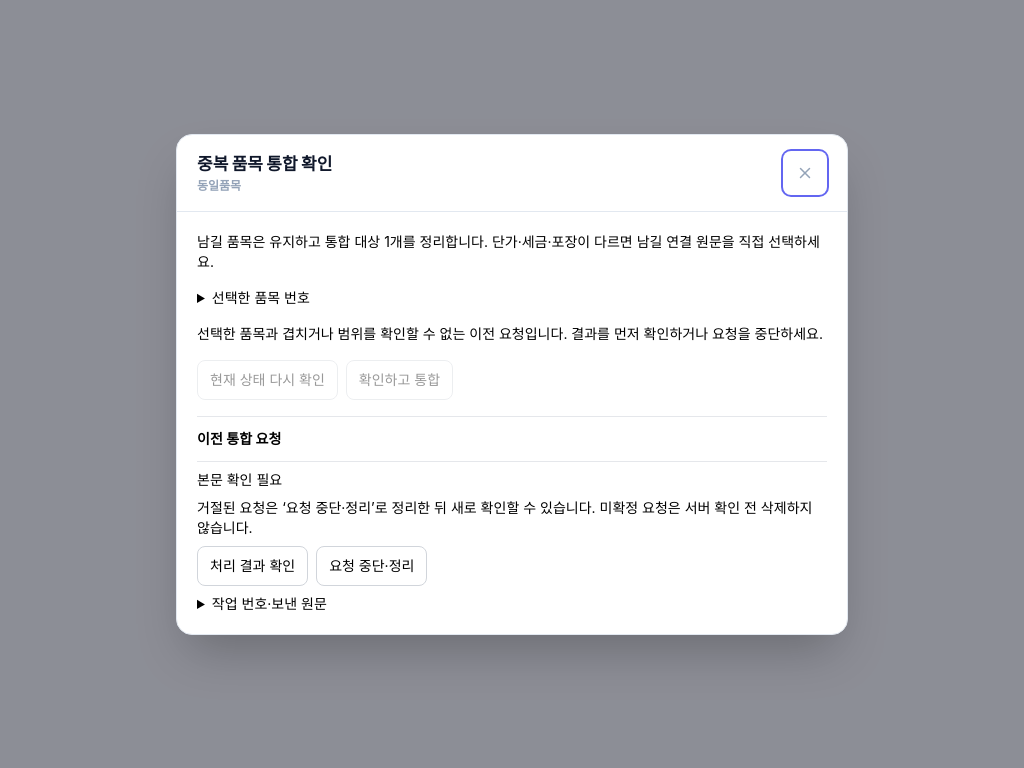
Test case: 손상된미확정원문은참조확인중단만제공하고서버ACK뒤보관목록갱신
Click the button "처리 결과 확인". click: point(253, 566)
box: x1=197 y1=546 x2=308 y2=586
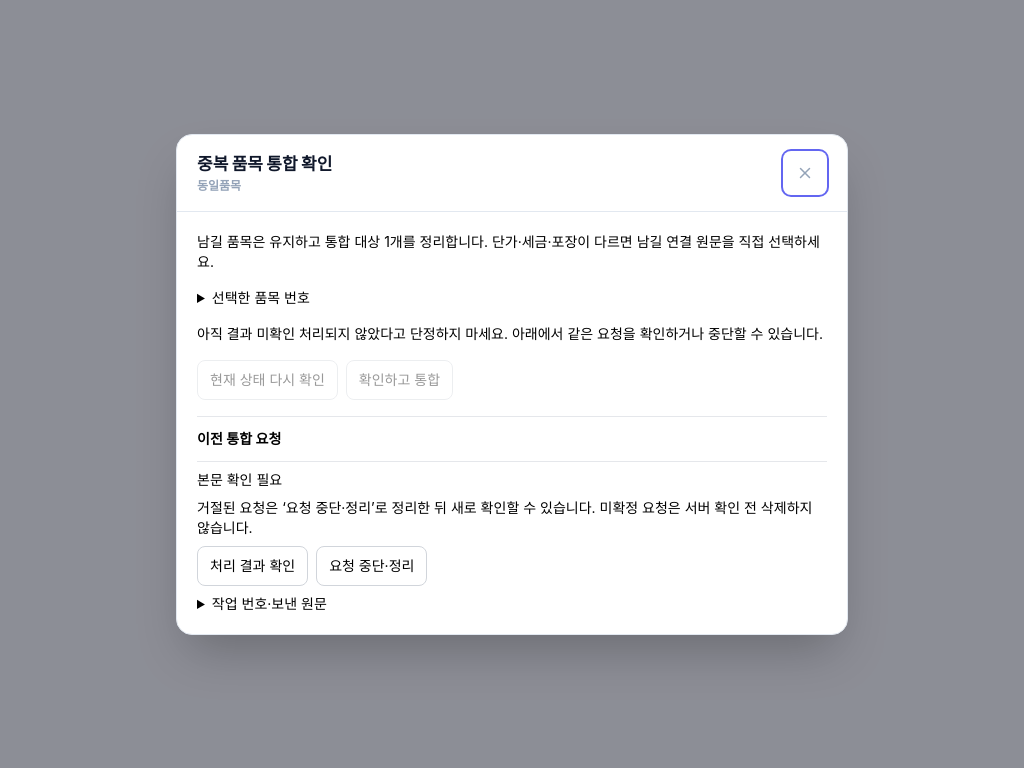
Click the button "요청 중단·정리". click: point(372, 566)
box: x1=316 y1=546 x2=428 y2=586
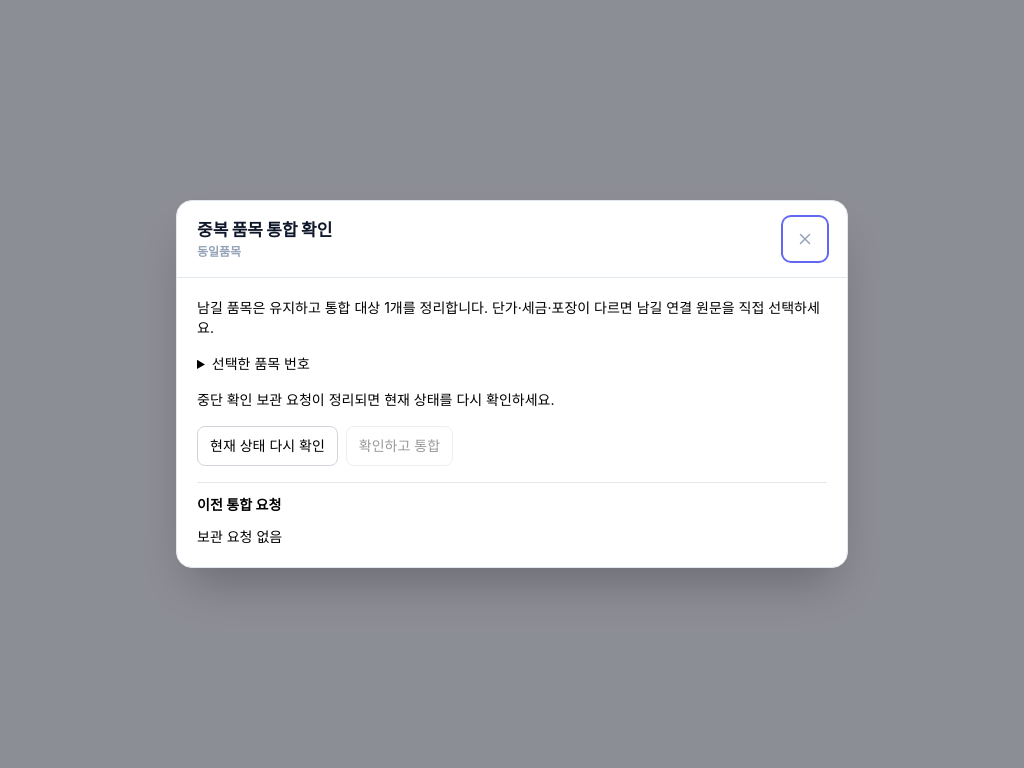
Expected: the text "중단 확인 보관 요청이 정리되면 현재 상태를 다시 확인하세요." is shown, x1=197 y1=391 x2=554 y2=408
